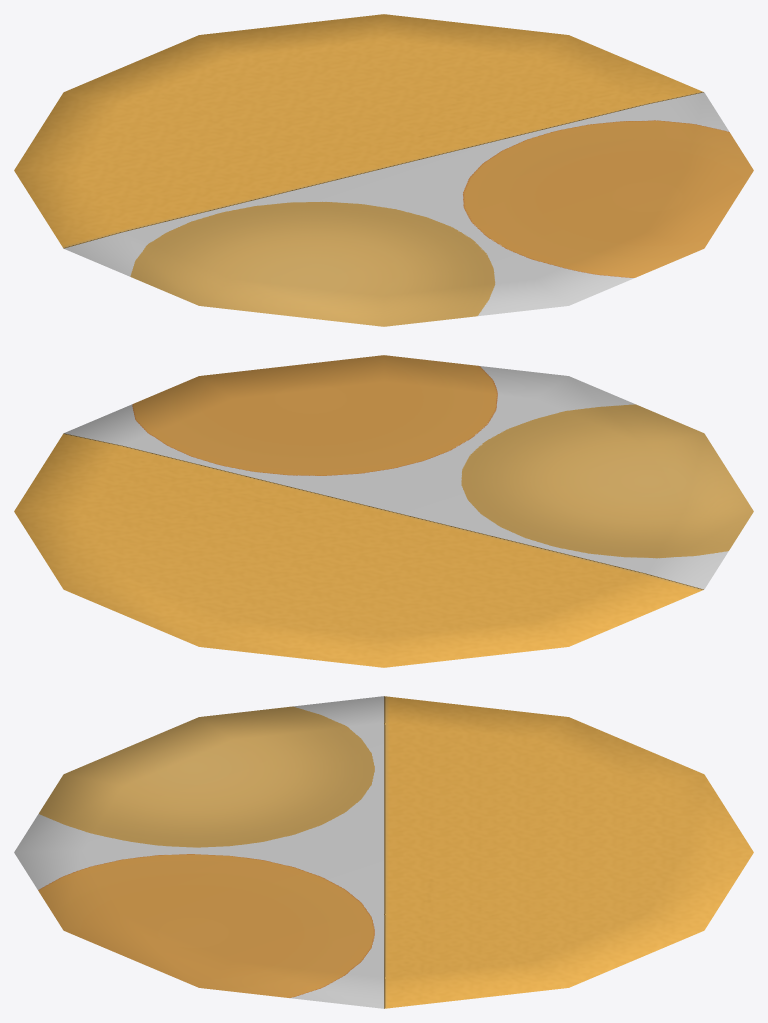
Rendered from WorldItem_PizzaSauced.fbx.
3 renders of one model, top to bottom at view 1: azimuth 30°, elevation 25°; view 2: azimuth 150°, elevation 25°; view 3: azimuth 270°, elevation 25°, orthographic.
Parts seen in each view (by area): view 1: PiePreparation, PiePreparation.001; view 2: PiePreparation, PiePreparation.001; view 3: PiePreparation, PiePreparation.001.
Boxes of the visible parts, <box> form: PiePreparation: <box>14,14,753,326</box>; PiePreparation.001: <box>64,92,729,316</box>; PiePreparation: <box>14,355,753,667</box>; PiePreparation.001: <box>64,366,728,589</box>; PiePreparation: <box>38,696,753,1008</box>; PiePreparation.001: <box>14,696,383,1008</box>.
Bounding box in the file's own units: 43.58 × 1.62 × 43.58.
